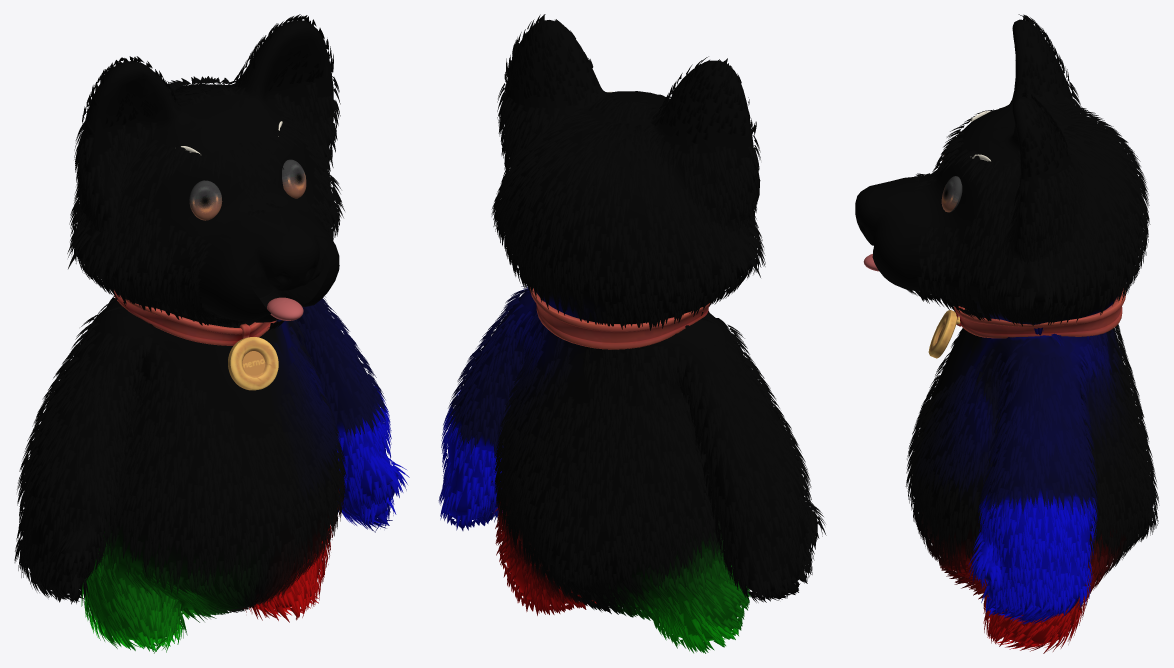
Rendered from nemo_shell_v17.glb.
3 views of the same model, side by side, from view 1: azimuth 30°, elevation 25°; view 2: azimuth 150°, elevation 25°; view 3: azimuth 270°, elevation 25° (orthographic). The views are drawn at different scales.
Visible parts, largest first — view 1: LayeredCurvedGroom, BoundedShellGroom, Body, Collar, Nemo_Normal, Small tongue inside smile; view 2: LayeredCurvedGroom, BoundedShellGroom, Body, Collar; view 3: LayeredCurvedGroom, BoundedShellGroom, Body, Collar, Nemo_Normal.
Part boxes in pixels (x1,y1,x2,y2): LayeredCurvedGroom: [14, 14, 409, 653]; BoundedShellGroom: [21, 20, 397, 640]; Body: [23, 48, 383, 615]; Collar: [114, 290, 278, 390]; Nemo_Normal: [189, 159, 306, 220]; Small tongue inside smile: [267, 297, 303, 320]; LayeredCurvedGroom: [438, 14, 826, 653]; BoundedShellGroom: [445, 20, 817, 640]; Body: [448, 74, 811, 622]; Collar: [530, 287, 709, 349]; LayeredCurvedGroom: [905, 14, 1159, 653]; BoundedShellGroom: [855, 19, 1152, 643]; Body: [858, 75, 1126, 589]; Collar: [928, 288, 1125, 358]; Nemo_Normal: [941, 154, 962, 212].
Bounding box in the file's own units: 1.74 × 2.75 × 1.36.
Materials: 8 (5 with a texture image).
